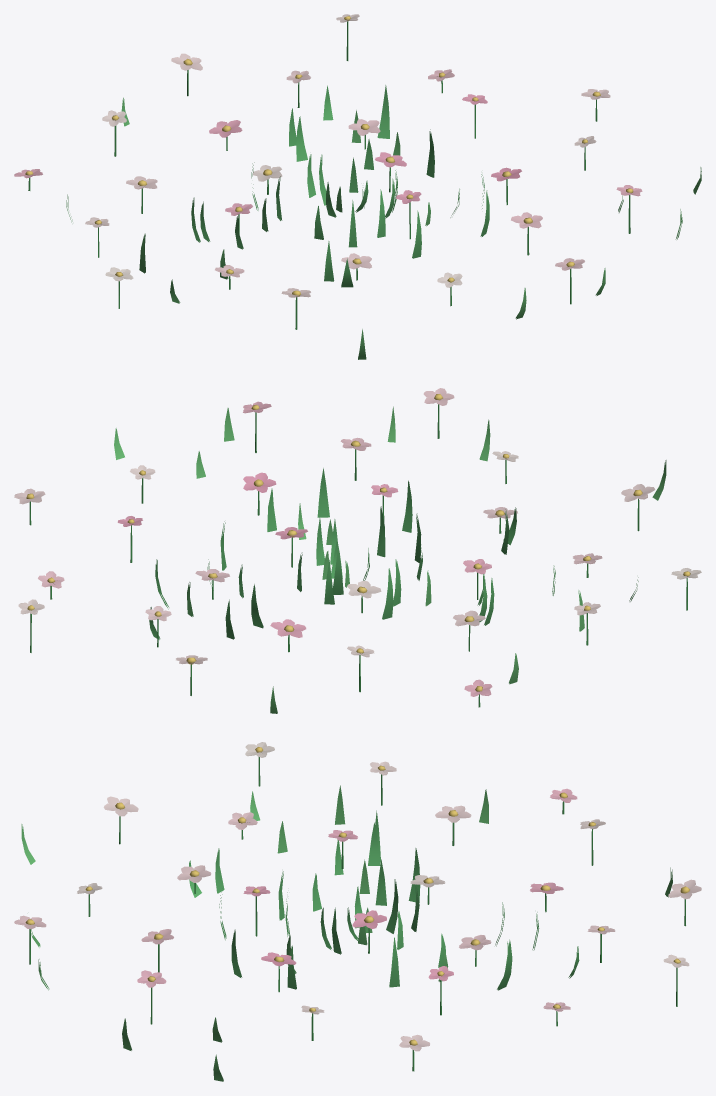
The model's file is flora_carpet_blush.gltf.
3 renders of one model, top to bottom at view 1: azimuth 30°, elevation 25°; view 2: azimuth 150°, elevation 25°; view 3: azimuth 270°, elevation 25°, orthographic. The views are drawn at different scales.
Visible parts, largest first — view 1: flora_carpet_blush; view 2: flora_carpet_blush; view 3: flora_carpet_blush.
Part boxes in pixels (bbox=[...]): flora_carpet_blush: bbox=[14, 14, 701, 359]; flora_carpet_blush: bbox=[14, 388, 701, 713]; flora_carpet_blush: bbox=[14, 742, 701, 1081].
Size of what is drawn, in the model's own units: 1.56 by 0.1344 by 1.52.
